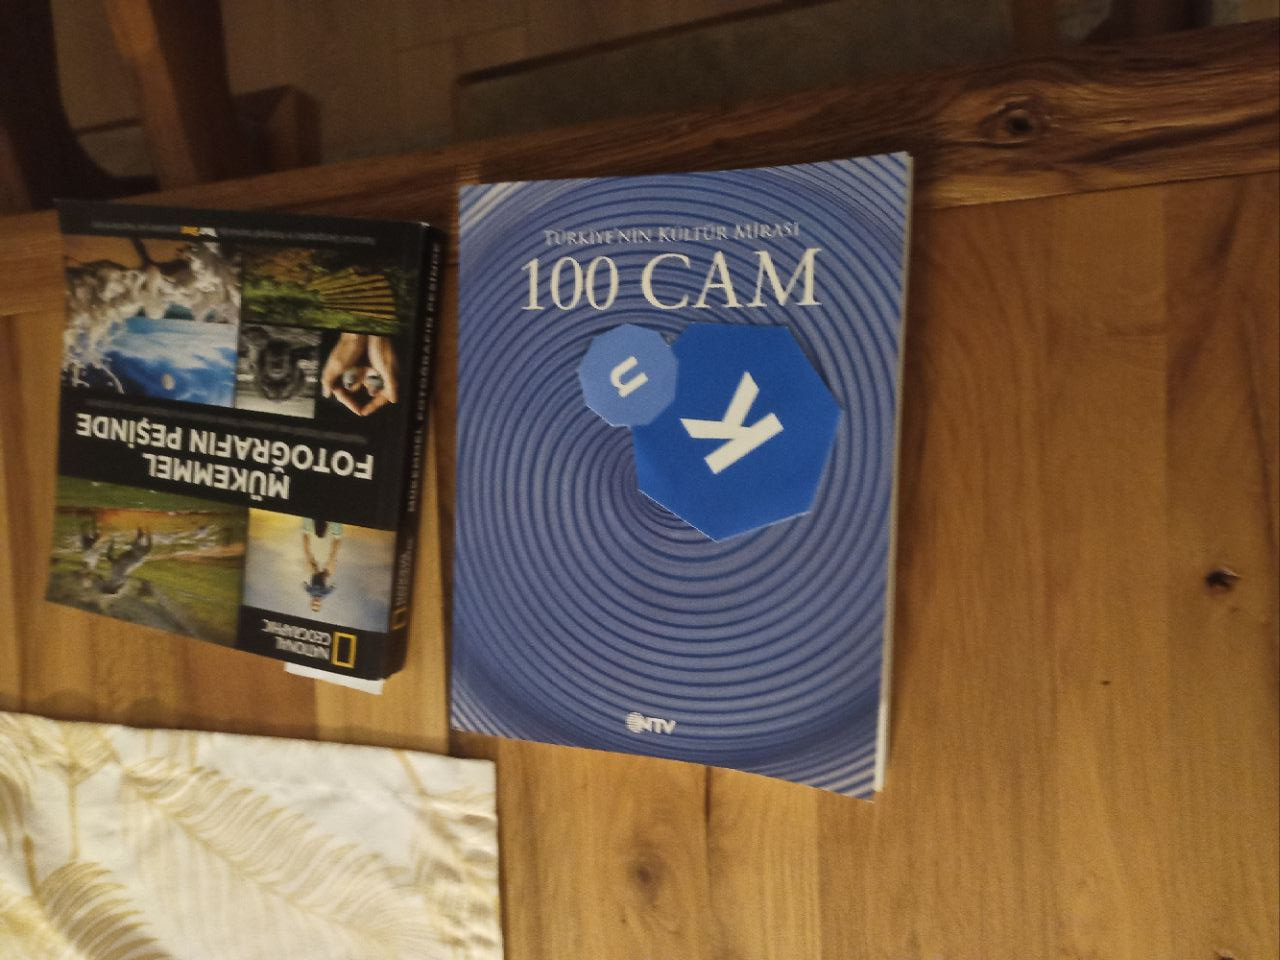knative: (577, 323, 842, 544)
